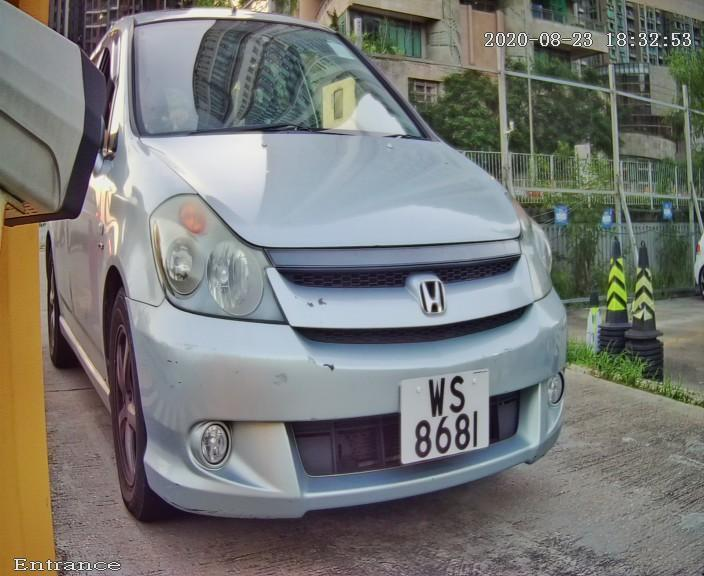License Plate: (364, 332, 519, 500)
